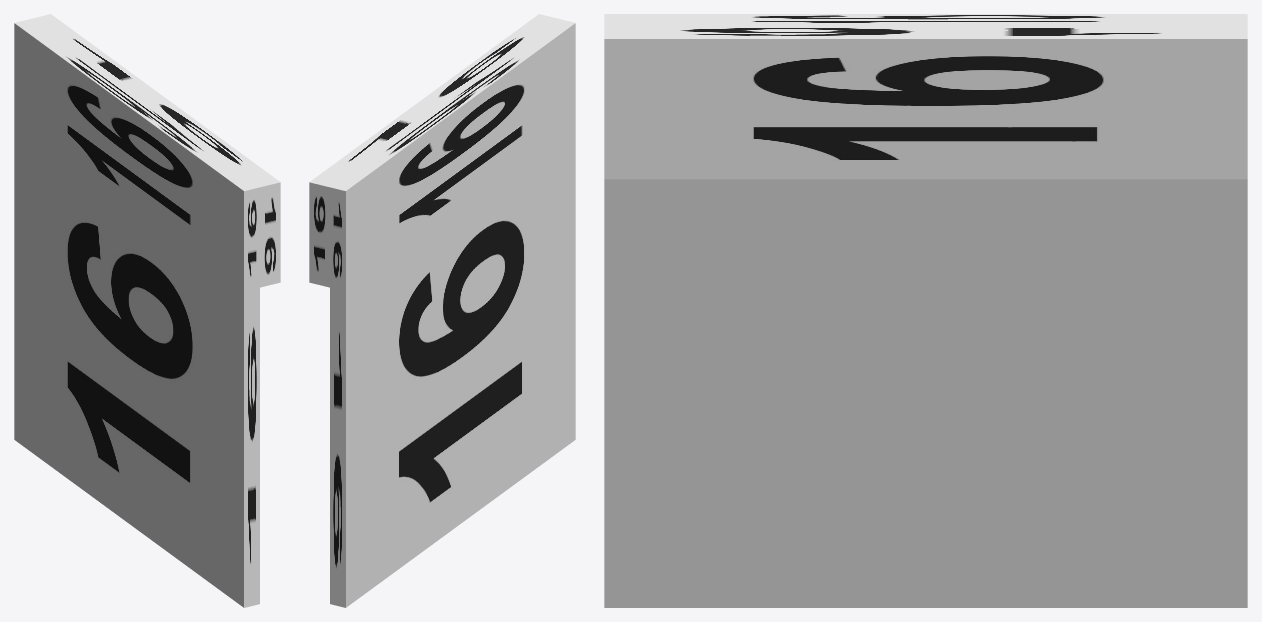
The model's file is calendar.fbx.
3 views of the same model, side by side, from view 1: azimuth 30°, elevation 25°; view 2: azimuth 150°, elevation 25°; view 3: azimuth 270°, elevation 25° (orthographic). The views are drawn at different scales.
Parts seen in each view (by area): view 1: Cube; view 2: Cube; view 3: Cube.
Boxes of the visible parts, x1,y1,x2,y2 form: Cube: (14, 14, 280, 607); Cube: (309, 14, 575, 607); Cube: (604, 14, 1247, 607).
Bounding box in the file's own units: 0.1011 × 1.1 × 1.1.
